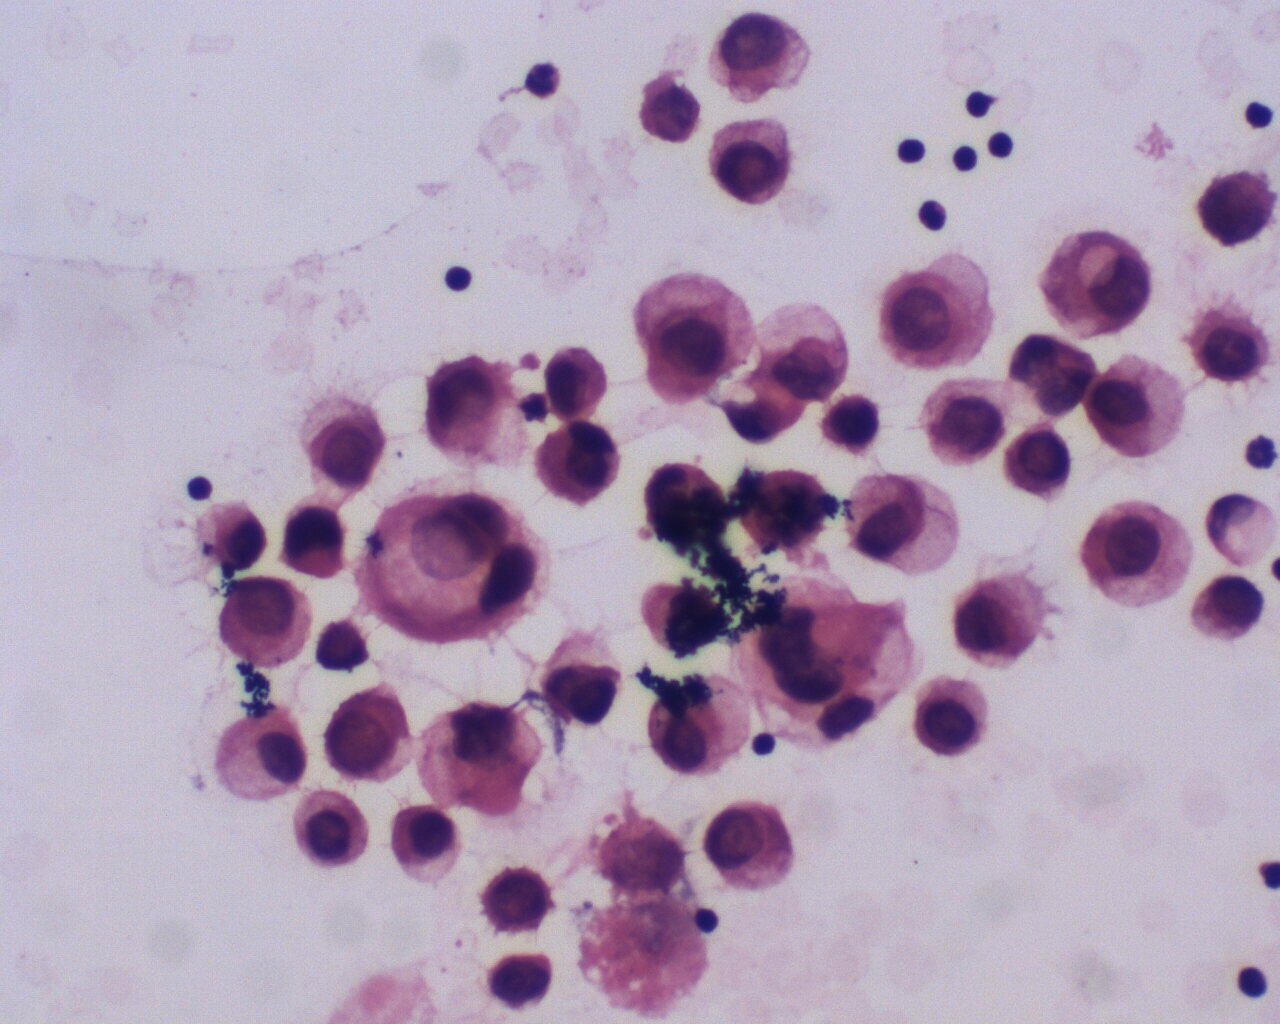ab: (1038, 225, 1156, 344), (421, 353, 528, 473), (916, 371, 1019, 471), (211, 574, 319, 669), (319, 686, 421, 786), (711, 11, 810, 106), (702, 798, 797, 894), (711, 115, 802, 209), (530, 422, 627, 510), (1191, 166, 1279, 250), (1196, 303, 1273, 386), (542, 338, 612, 426), (910, 676, 986, 758), (273, 499, 349, 578), (472, 864, 560, 932), (1005, 417, 1073, 503), (1189, 572, 1266, 645), (632, 72, 705, 148), (479, 945, 558, 1013), (821, 389, 884, 461)
histo: (200, 706, 303, 807), (1202, 486, 1280, 572)
lymph: (1228, 956, 1271, 1003), (441, 254, 480, 301), (978, 125, 1020, 163), (689, 902, 723, 941), (897, 127, 928, 165)
meso: (1077, 491, 1198, 616), (288, 784, 373, 878)
neutro: (516, 56, 571, 104)
